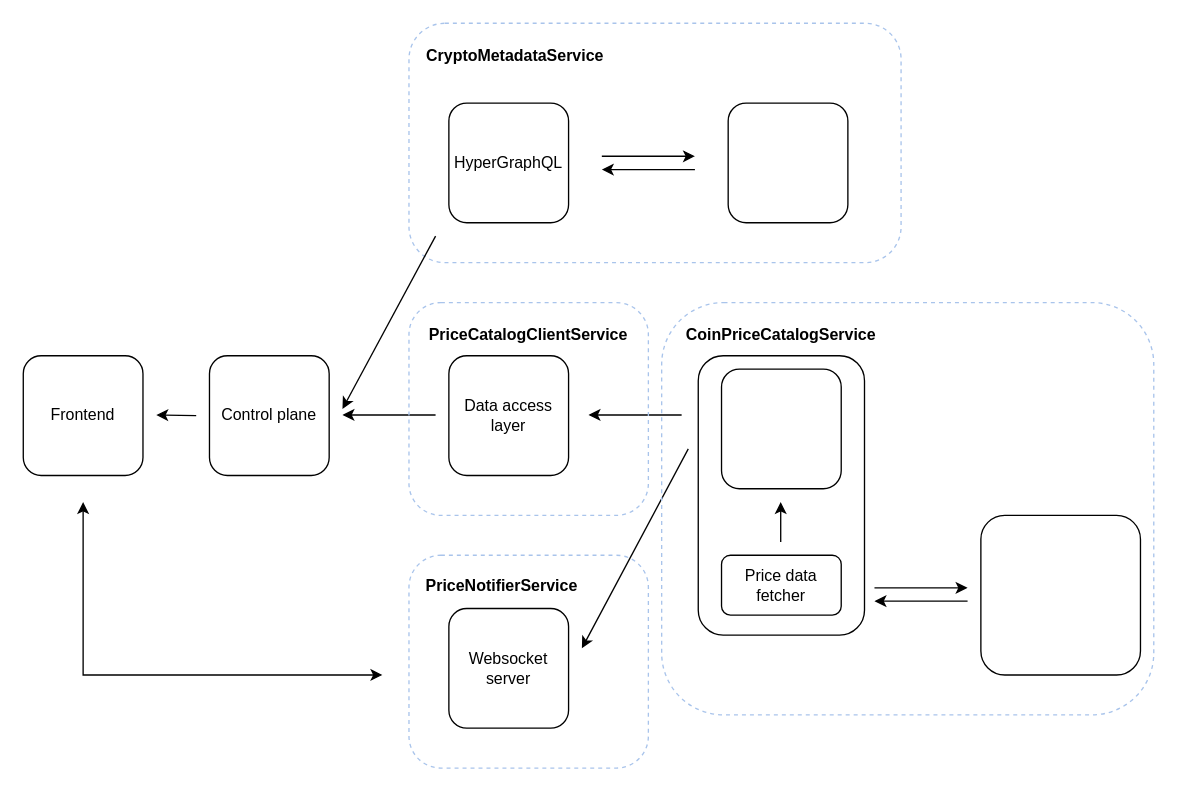
The diagram is 1177 pixels wide and 791 high, and some of its shapes have lost their labels. The centre of each missing label's shape, as x and y in pixels:
Key Value store: (x=780, y=428)
Triple store: (x=787, y=162)
Trusted data source: (x=1060, y=594)
